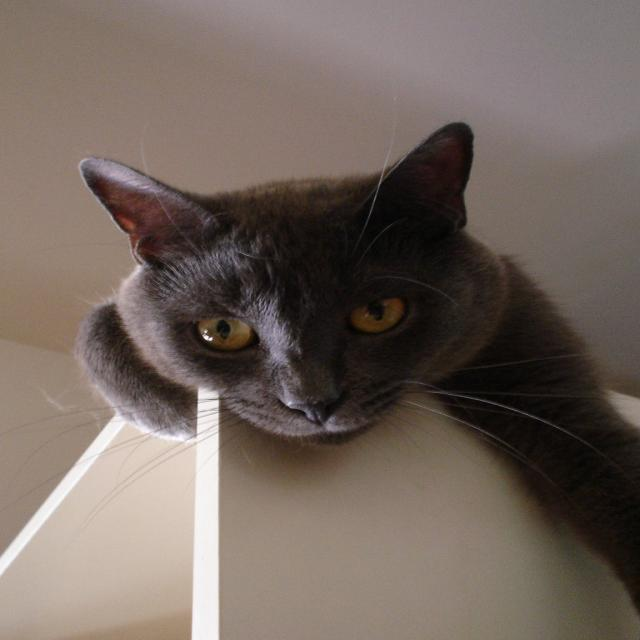cat: (9, 121, 640, 617)
